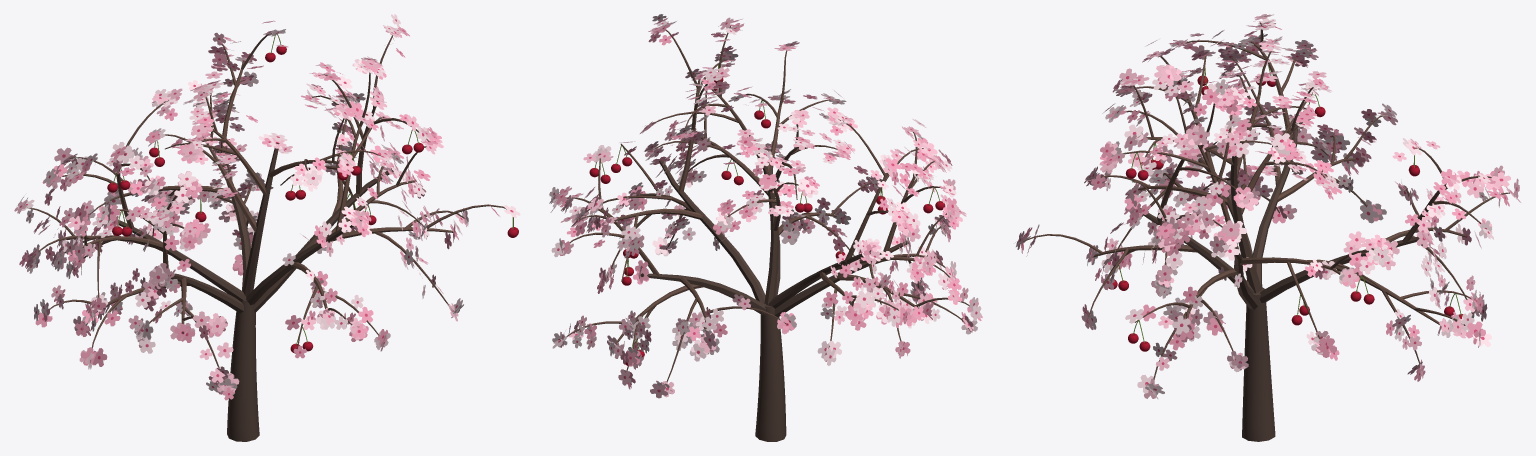
3 views of the same model, side by side, from view 1: azimuth 30°, elevation 25°; view 2: azimuth 150°, elevation 25°; view 3: azimuth 270°, elevation 25° (orthographic). The views are drawn at different scales.
Visible parts, largest first — view 1: body; view 2: body; view 3: body.
Part boxes in pixels (left/top/right/bottom): body: left=14, top=14, right=520, bottom=441; body: left=549, top=14, right=982, bottom=441; body: left=1015, top=14, right=1520, bottom=441.
Bounding box in the file's own units: 2.06 × 1.81 × 1.97.
Materials: 1 (1 with a texture image).
